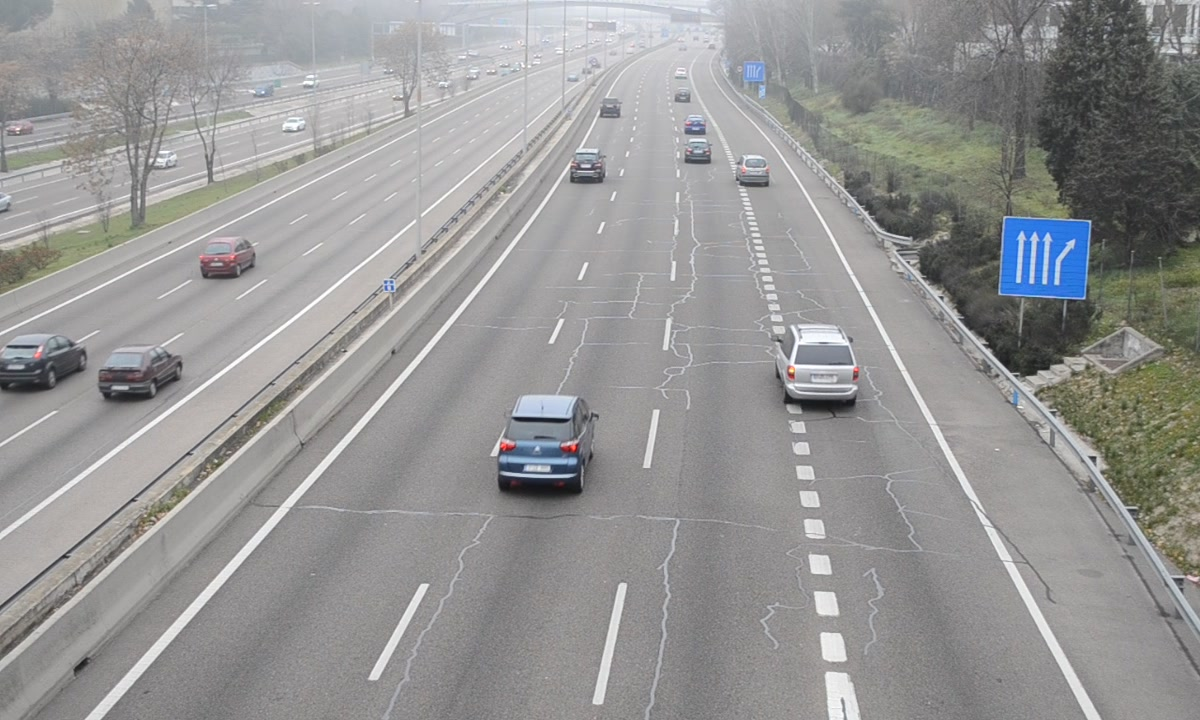car: (498, 396, 595, 489), (780, 325, 859, 404), (570, 149, 605, 185), (736, 153, 771, 188), (684, 137, 712, 166)
